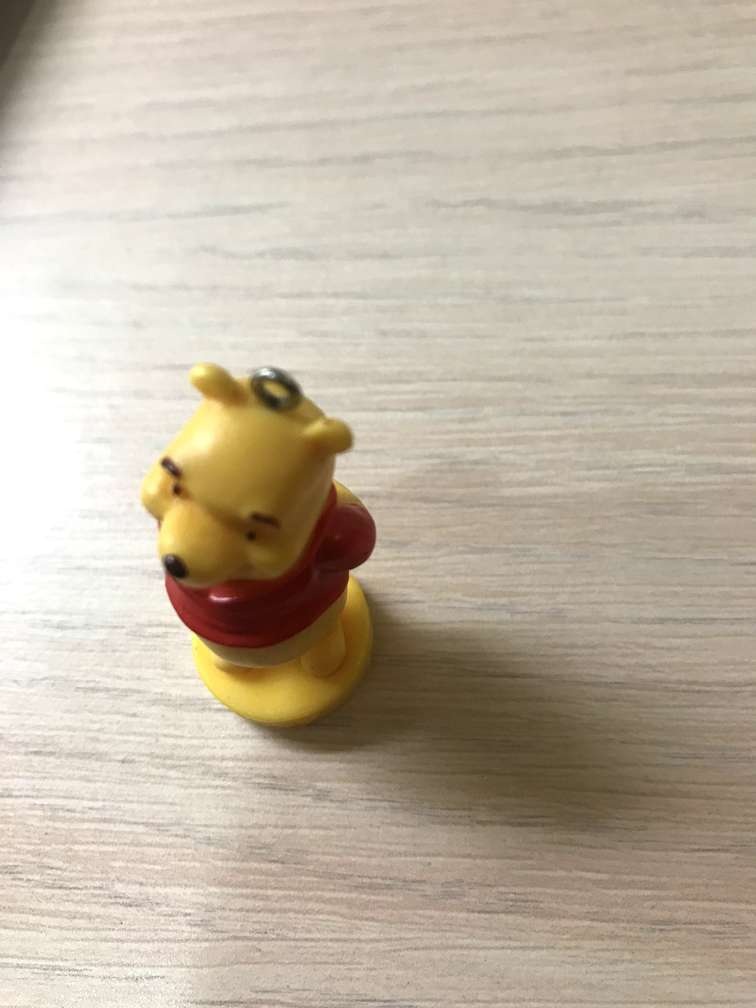Winnie: (157, 358, 354, 585)
